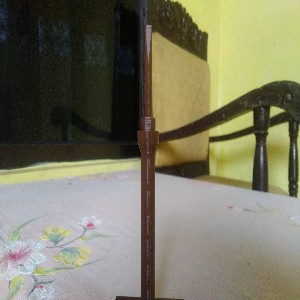obeng: (136, 24, 160, 300)
